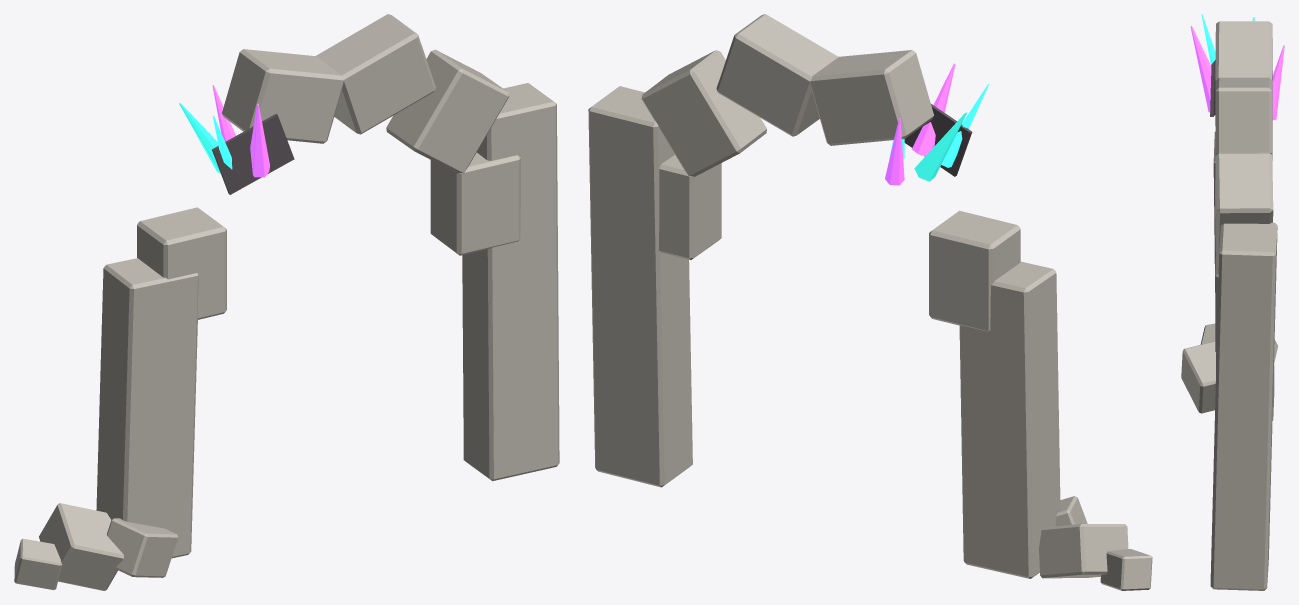
The model's file is runtime.glb.
3 renders of one model, left to right at view 1: azimuth 30°, elevation 25°; view 2: azimuth 150°, elevation 25°; view 3: azimuth 270°, elevation 25°, orthographic. The views are drawn at different scales.
Visible parts, largest first — view 1: crystal-ruins-broken-arch-v08_stone_01, crystal-ruins-broken-arch-v08_stone_00, crystal-ruins-broken-arch-v08_voussoir_03, crystal-ruins-broken-arch-v08_voussoir_02, crystal-ruins-broken-arch-v08_voussoir_04, crystal-ruins-broken-arch-v08_voussoir_05, crystal-ruins-broken-arch-v08_voussoir_00, crystal-ruins-broken-arch-v08_stone_11_nocol, crystal-ruins-broken-arch-v08_stone_10_nocol, crystal-ruins-broken-arch-v08_fracture_00_nocol, crystal-ruins-broken-arch-v08_stone_12_nocol, crystal-ruins-broken-arch-v08_crystal_04_nocol; view 2: crystal-ruins-broken-arch-v08_stone_01, crystal-ruins-broken-arch-v08_stone_00, crystal-ruins-broken-arch-v08_voussoir_02, crystal-ruins-broken-arch-v08_voussoir_03, crystal-ruins-broken-arch-v08_voussoir_04, crystal-ruins-broken-arch-v08_voussoir_00, crystal-ruins-broken-arch-v08_voussoir_05, crystal-ruins-broken-arch-v08_stone_11_nocol, crystal-ruins-broken-arch-v08_stone_12_nocol, crystal-ruins-broken-arch-v08_fracture_00_nocol, crystal-ruins-broken-arch-v08_crystal_02_nocol, crystal-ruins-broken-arch-v08_crystal_04_nocol (+1 smaller); view 3: crystal-ruins-broken-arch-v08_stone_01, crystal-ruins-broken-arch-v08_voussoir_03, crystal-ruins-broken-arch-v08_voussoir_04, crystal-ruins-broken-arch-v08_voussoir_02, crystal-ruins-broken-arch-v08_stone_10_nocol, crystal-ruins-broken-arch-v08_crystal_04_nocol, crystal-ruins-broken-arch-v08_crystal_01_nocol, crystal-ruins-broken-arch-v08_stone_00, crystal-ruins-broken-arch-v08_voussoir_05, crystal-ruins-broken-arch-v08_stone_11_nocol, crystal-ruins-broken-arch-v08_fracture_00_nocol, crystal-ruins-broken-arch-v08_crystal_03_nocol.
Part boxes in pixels (x1,y1,x2,y2): crystal-ruins-broken-arch-v08_stone_01: [462, 83, 559, 481]; crystal-ruins-broken-arch-v08_stone_00: [96, 258, 198, 558]; crystal-ruins-broken-arch-v08_voussoir_03: [316, 14, 435, 134]; crystal-ruins-broken-arch-v08_voussoir_02: [222, 49, 343, 143]; crystal-ruins-broken-arch-v08_voussoir_04: [386, 49, 509, 173]; crystal-ruins-broken-arch-v08_voussoir_05: [430, 152, 520, 255]; crystal-ruins-broken-arch-v08_voussoir_00: [137, 207, 226, 319]; crystal-ruins-broken-arch-v08_stone_11_nocol: [39, 503, 123, 590]; crystal-ruins-broken-arch-v08_stone_10_nocol: [107, 518, 178, 577]; crystal-ruins-broken-arch-v08_fracture_00_nocol: [212, 113, 294, 194]; crystal-ruins-broken-arch-v08_stone_12_nocol: [14, 538, 62, 590]; crystal-ruins-broken-arch-v08_crystal_04_nocol: [250, 103, 269, 177]; crystal-ruins-broken-arch-v08_stone_01: [588, 86, 692, 487]; crystal-ruins-broken-arch-v08_stone_00: [959, 261, 1060, 578]; crystal-ruins-broken-arch-v08_voussoir_02: [810, 50, 934, 145]; crystal-ruins-broken-arch-v08_voussoir_03: [716, 14, 838, 136]; crystal-ruins-broken-arch-v08_voussoir_04: [641, 50, 766, 176]; crystal-ruins-broken-arch-v08_voussoir_00: [929, 210, 1020, 331]; crystal-ruins-broken-arch-v08_voussoir_05: [658, 155, 721, 260]; crystal-ruins-broken-arch-v08_stone_11_nocol: [1039, 524, 1128, 578]; crystal-ruins-broken-arch-v08_stone_12_nocol: [1100, 549, 1152, 590]; crystal-ruins-broken-arch-v08_fracture_00_nocol: [904, 104, 972, 176]; crystal-ruins-broken-arch-v08_crystal_02_nocol: [914, 112, 966, 181]; crystal-ruins-broken-arch-v08_crystal_04_nocol: [912, 63, 955, 156]; crystal-ruins-broken-arch-v08_stone_01: [1210, 222, 1277, 590]; crystal-ruins-broken-arch-v08_voussoir_03: [1215, 77, 1272, 153]; crystal-ruins-broken-arch-v08_voussoir_04: [1214, 152, 1273, 250]; crystal-ruins-broken-arch-v08_voussoir_02: [1215, 21, 1272, 125]; crystal-ruins-broken-arch-v08_stone_10_nocol: [1181, 341, 1215, 413]; crystal-ruins-broken-arch-v08_crystal_04_nocol: [1190, 25, 1211, 112]; crystal-ruins-broken-arch-v08_crystal_01_nocol: [1272, 45, 1284, 120]; crystal-ruins-broken-arch-v08_stone_00: [1213, 131, 1274, 420]; crystal-ruins-broken-arch-v08_voussoir_05: [1215, 250, 1219, 352]; crystal-ruins-broken-arch-v08_stone_11_nocol: [1200, 323, 1277, 363]; crystal-ruins-broken-arch-v08_fracture_00_nocol: [1210, 60, 1215, 116]; crystal-ruins-broken-arch-v08_crystal_03_nocol: [1201, 14, 1215, 65].
Bounding box in the file's own units: 12.07 × 10.35 × 2.15.
